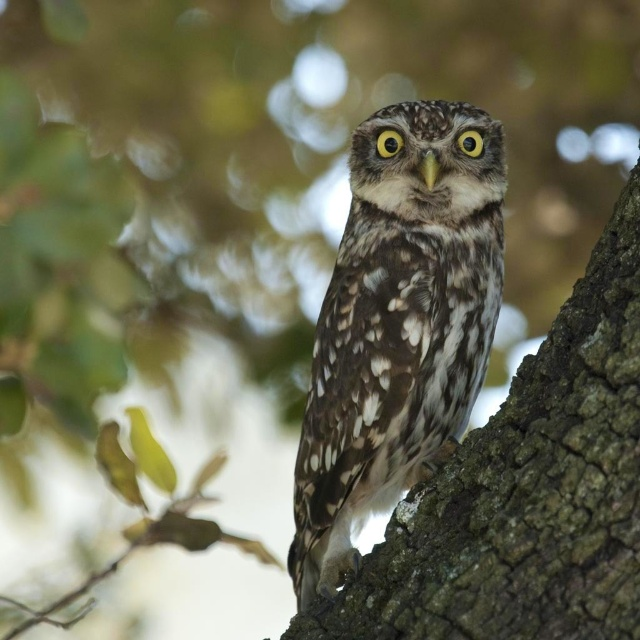Owl: (283, 97, 510, 609)
